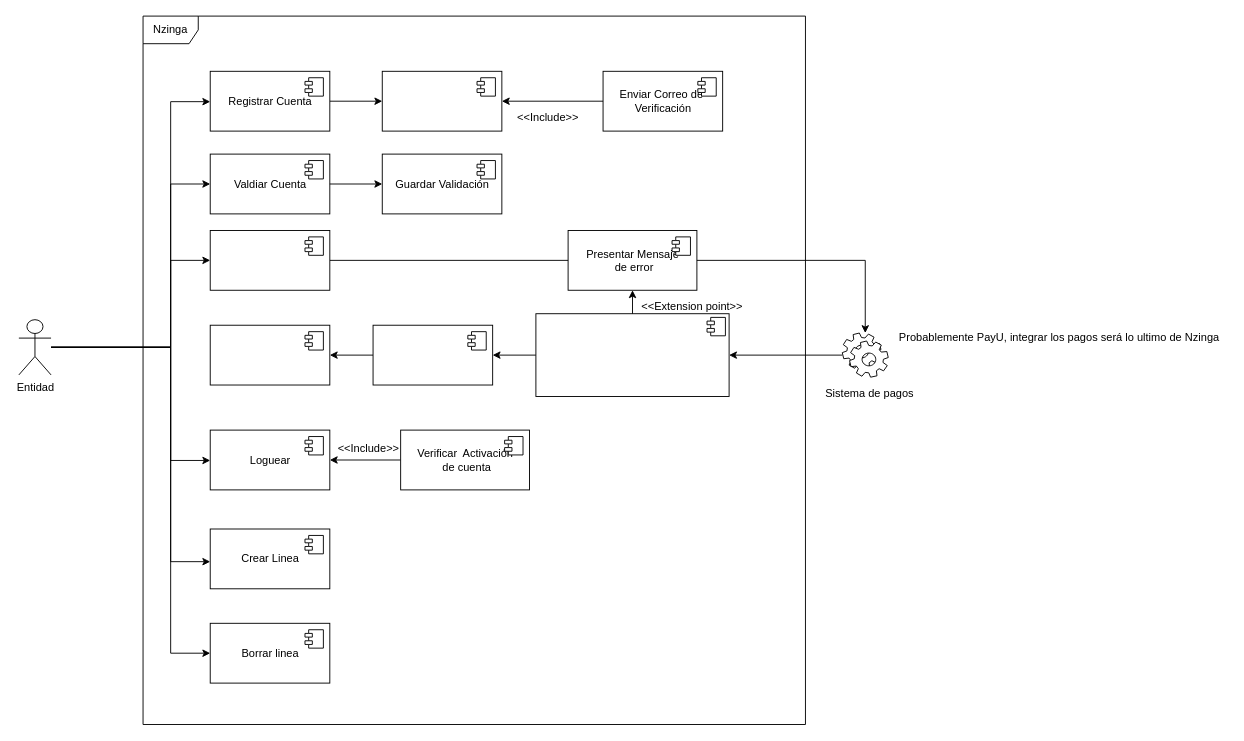
Some shapes in this 1244 by 741 pixel diagram are drawn without their labels. Here are the shapes that lost their labels. From the top down, the centre of each, then its label:
At point 441,100: "Guardar datos".
At point 269,260: "Pagar Registro".
At point 269,354: "Presentar Mensaje".
At point 432,354: "Activar cuenta".
At point 632,355: "Recibir resultado del cobro <<Extension point>> -Pago no exitoso".
